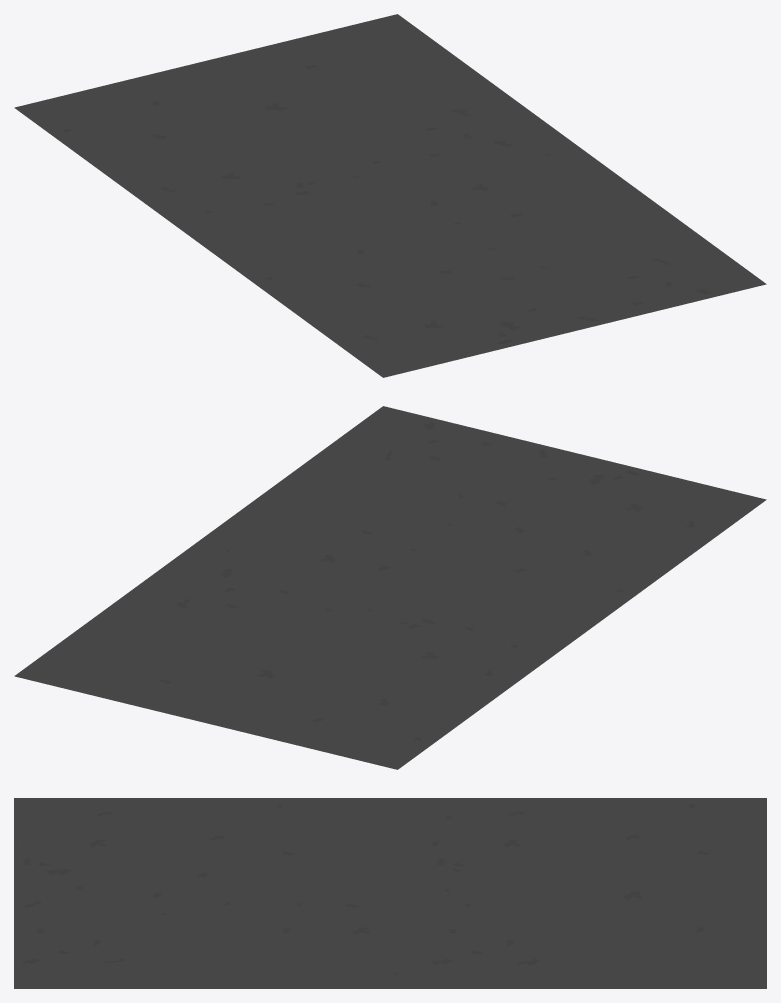
The model's file is SM_Env_BasketBall_Court_01.fbx.
3 renders of one model, top to bottom at view 1: azimuth 30°, elevation 25°; view 2: azimuth 150°, elevation 25°; view 3: azimuth 270°, elevation 25°, orthographic.
Parts seen in each view (by area): view 1: SM_Env_BasketBall_Court_01; view 2: SM_Env_BasketBall_Court_01; view 3: SM_Env_BasketBall_Court_01.
Boxes of the visible parts, bbox=[...] form: SM_Env_BasketBall_Court_01: bbox=[14, 14, 766, 377]; SM_Env_BasketBall_Court_01: bbox=[14, 406, 766, 769]; SM_Env_BasketBall_Court_01: bbox=[14, 798, 766, 988].
Bounding box in the file's own units: 1500 × 1.14e-05 × 2500.
